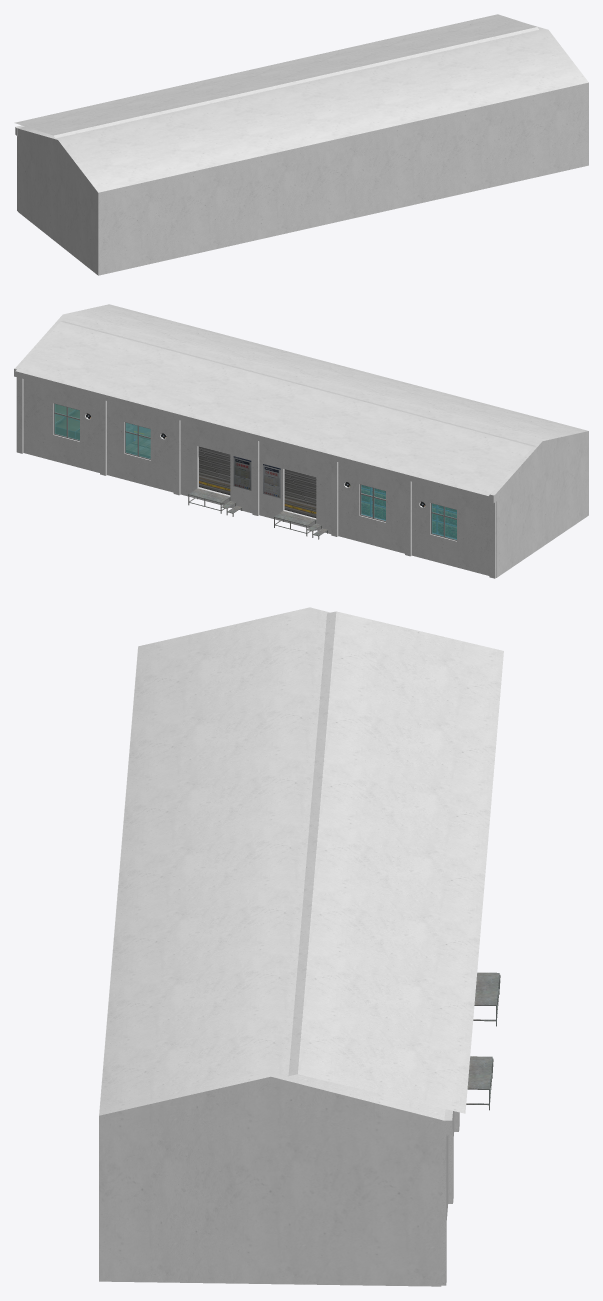
Rendered from CK-8he9haocangku01-JZ.FBX.
The picture shows the model from 3 angles, top to bottom: view 1: azimuth 30°, elevation 25°; view 2: azimuth 150°, elevation 25°; view 3: azimuth 270°, elevation 25°; orthographic projection. The views are drawn at different scales.
Visible parts, largest first — view 1: CK-8he9haocangku01-JZ; view 2: CK-8he9haocangku01-JZ; view 3: CK-8he9haocangku01-JZ.
Part boxes in pixels (x1,y1,x2,y2): CK-8he9haocangku01-JZ: (14, 14, 588, 275); CK-8he9haocangku01-JZ: (14, 304, 588, 578); CK-8he9haocangku01-JZ: (99, 607, 503, 1286).
Size of the model in its own units: 30.22 by 6.16 by 10.9.
Materials: 14 (12 with a texture image).
